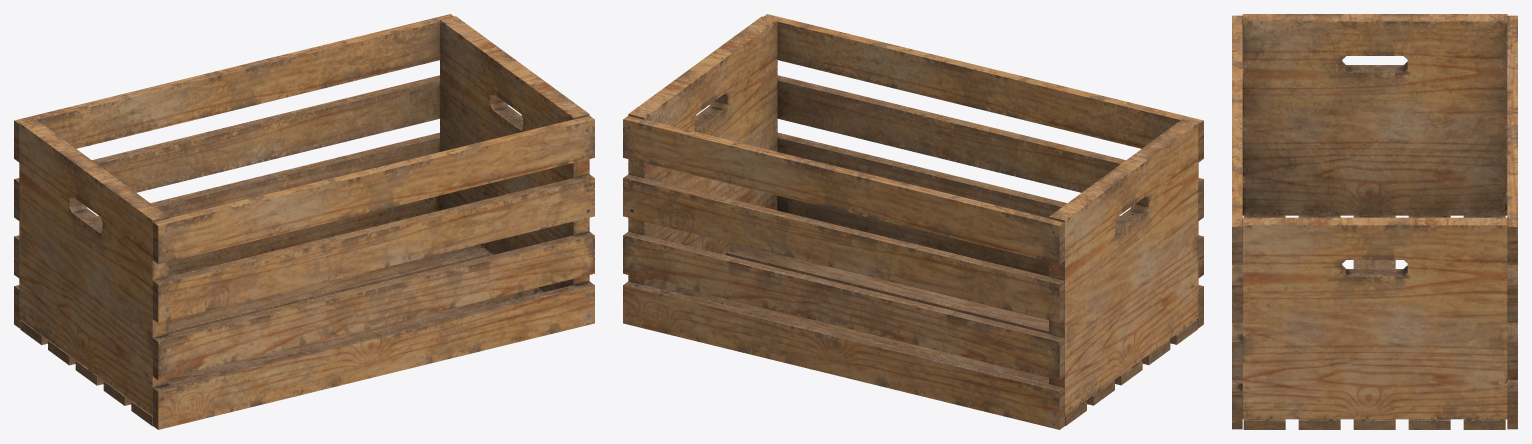
3 views of the same model, side by side, from view 1: azimuth 30°, elevation 25°; view 2: azimuth 150°, elevation 25°; view 3: azimuth 270°, elevation 25° (orthographic).
Visible parts, largest first — view 1: Wooden crate_1; view 2: Wooden crate_1; view 3: Wooden crate_1.
Boxes of the visible parts, <box> form: Wooden crate_1: <box>14,14,594,429</box>; Wooden crate_1: <box>623,14,1203,429</box>; Wooden crate_1: <box>1232,14,1517,429</box>.
Bounding box in the file's own units: 0.7919 × 0.3573 × 0.4525.
1 material, 1 textured.
